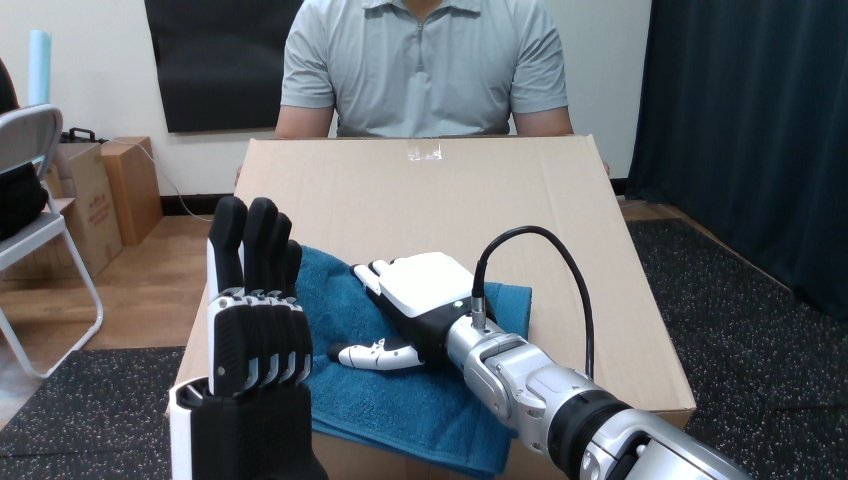left robot hand: (330, 226, 748, 479), (169, 196, 326, 478), (483, 233, 586, 372)
